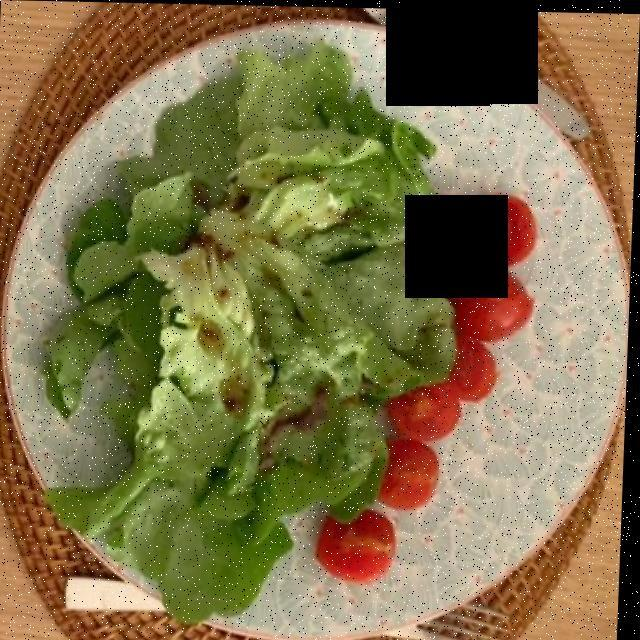salad: (41, 61, 457, 626)
tomato: (323, 198, 542, 594)
